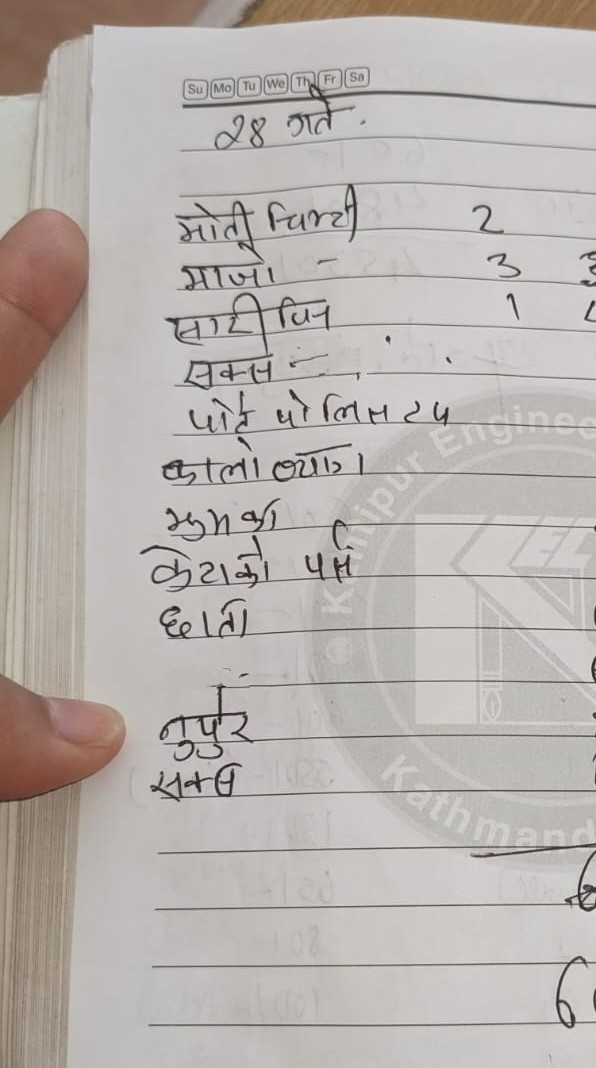text: (153, 437, 372, 483), (157, 292, 337, 341), (149, 684, 260, 759), (270, 388, 461, 430), (136, 544, 279, 593), (259, 184, 364, 238), (161, 495, 281, 540), (152, 593, 256, 644), (145, 757, 249, 804), (168, 196, 258, 249), (296, 519, 369, 583), (177, 249, 278, 295), (181, 392, 260, 444), (178, 353, 283, 392), (200, 107, 272, 155), (285, 85, 340, 141)
